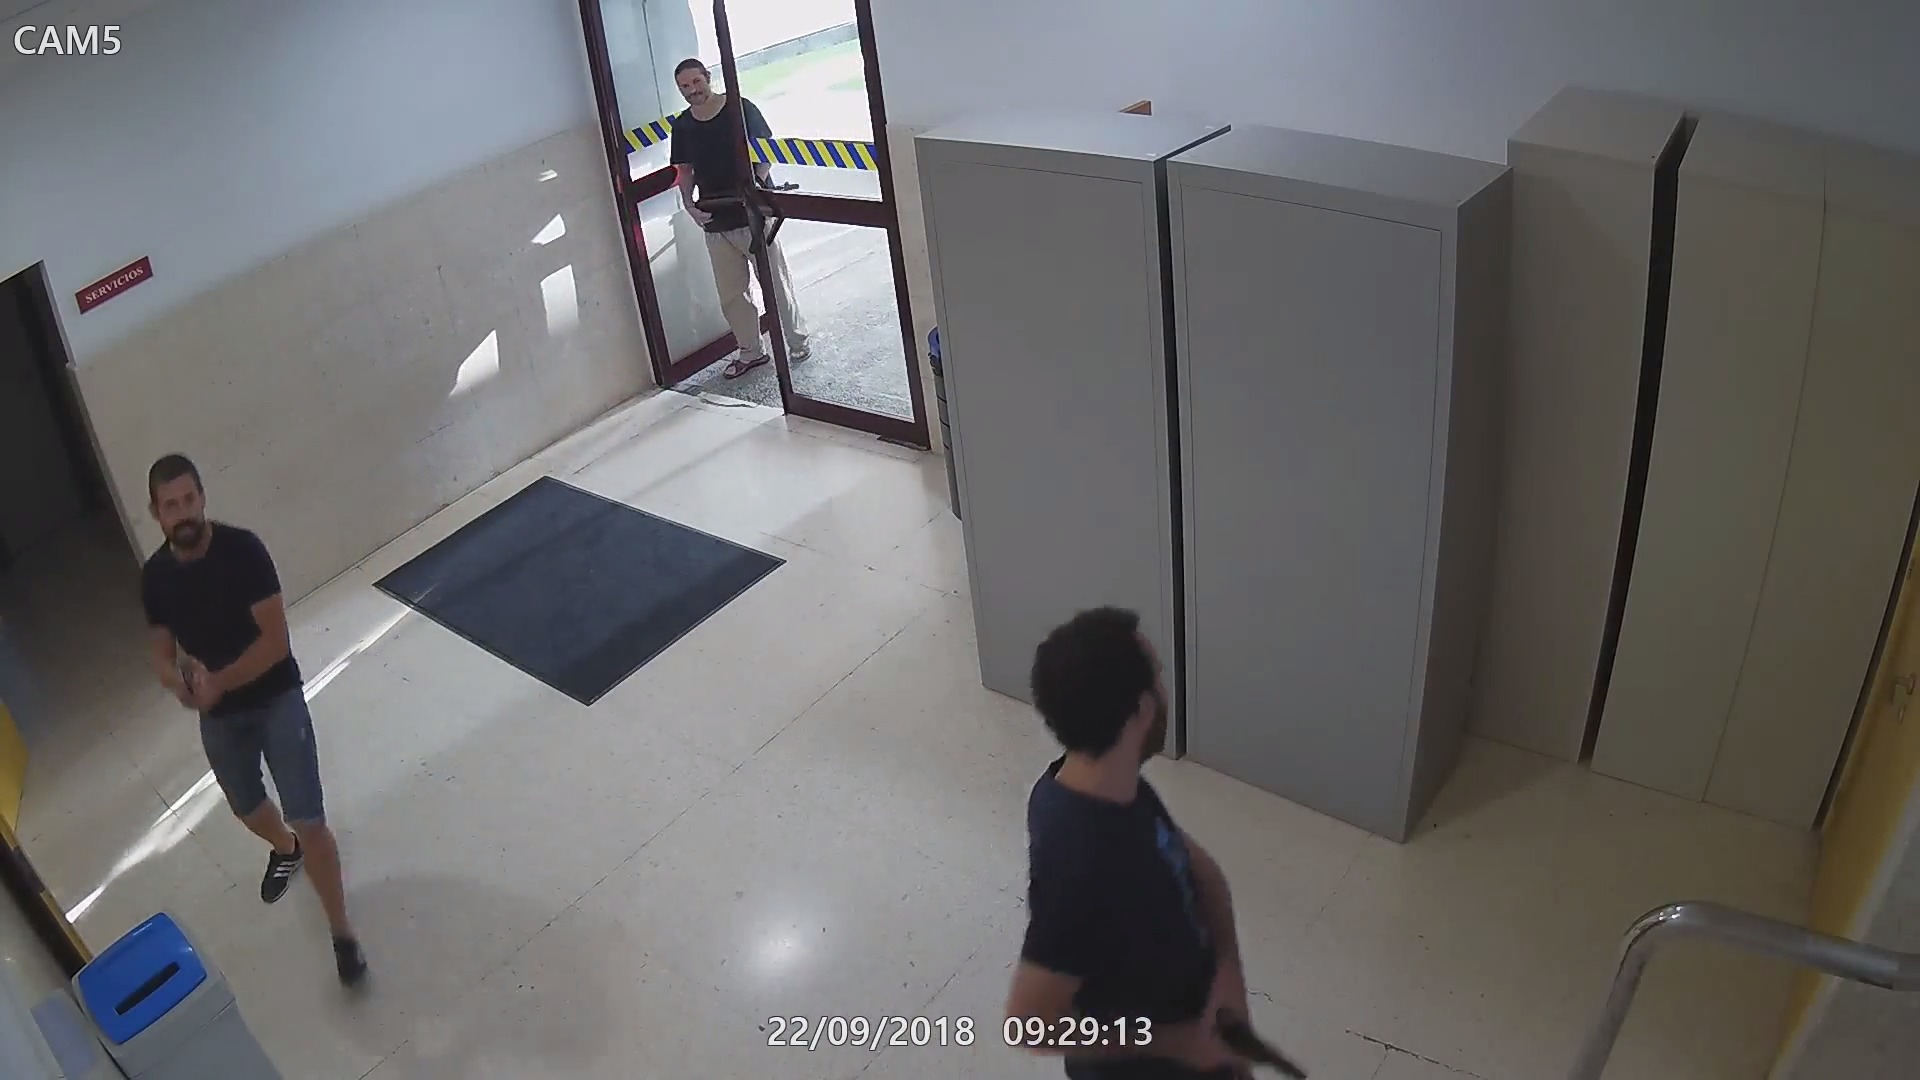pistol: (1204, 1000, 1317, 1080), (170, 649, 214, 716)
rifle: (684, 179, 803, 228)
